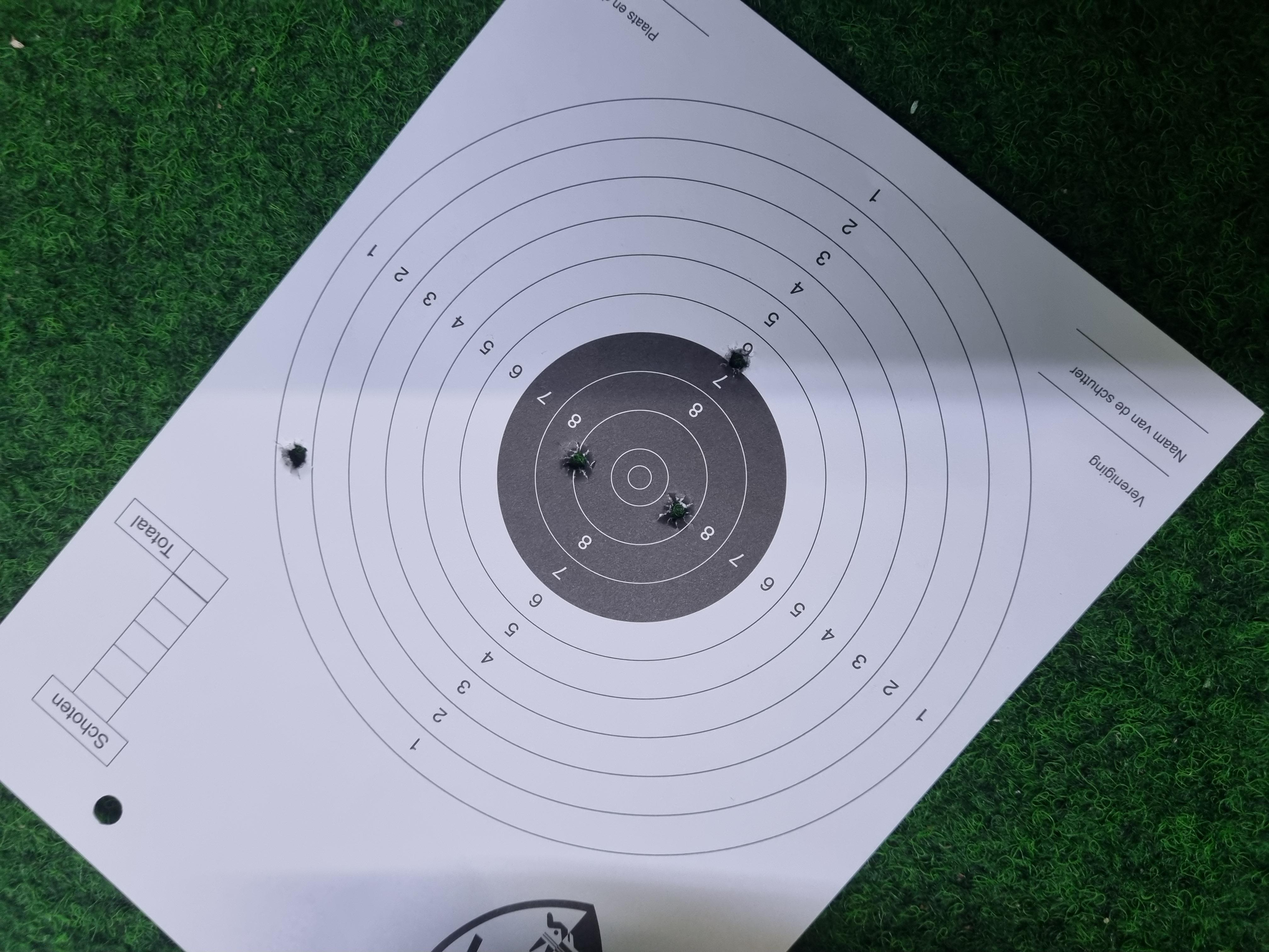hole: (559, 493, 610, 520), (630, 419, 680, 446), (631, 206, 682, 231), (767, 540, 806, 564)
